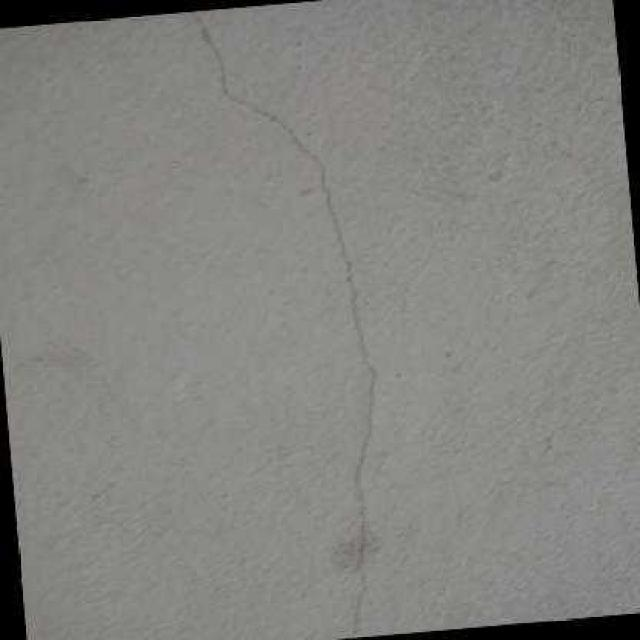D00: (194, 17, 379, 639)
